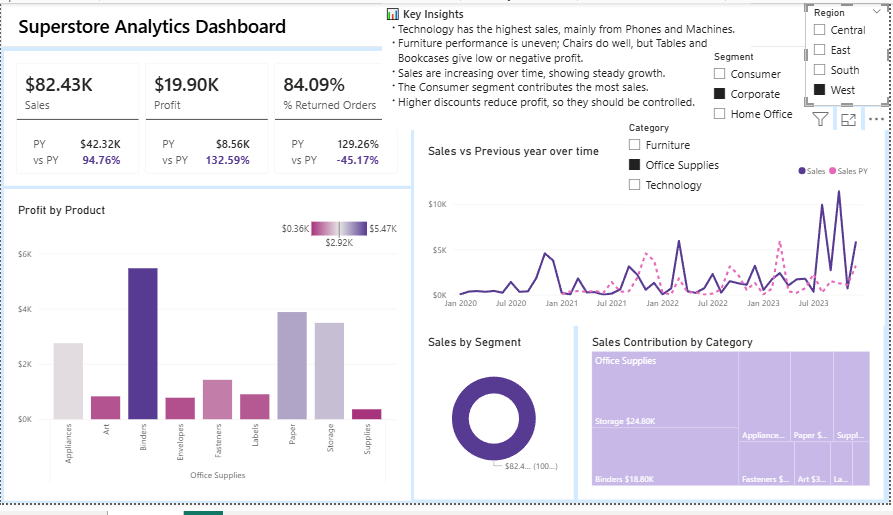

What the dashboard file says about the page in this screenshot:
{"tool":"powerbi","page":{"name":"Page 1","canvas":[1280,720],"ordinal":0},"visuals":[{"type":"cardVisual","fields":{"Data":["Key Measures.Sales","Key Measures.Profit","Key Measures.% Returned Orders"]},"box":[4.3,68.6,585.7,194.3],"z":0},{"type":"shape","box":[0,0,1280.3,63.1],"z":1000},{"type":"lineChart","title":"Sales vs Previous year over time","fields":{"Y":["Key Measures.Sales","Key Measures.Sales PY"],"Category":["Date Table.Start of month"]},"box":[594.7,182.9,678.2,282.2],"z":2000},{"type":"columnChart","title":"Profit by Product","fields":{"Category":["Orders.Category","Orders.Sub-Category"],"Y":["Key Measures.Profit"]},"box":[4.3,267.1,585.7,448.6],"z":3000},{"type":"donutChart","title":"Sales by Segment","fields":{"Category":["Orders.Segment"],"Y":["Key Measures.Sales"]},"box":[595.4,458.5,230,256.9],"z":4000},{"type":"treemap","title":"Sales Contribution by Category","fields":{"Group":["Orders.Category"],"Details":["Orders.Sub-Category"],"Values":["Key Measures.Sales"]},"box":[831.4,458.6,440,257.1],"z":5000},{"type":"textbox","box":[548.6,0,531.4,182.9],"z":6000},{"type":"slicer","fields":{"Values":["Orders.Region"]},"box":[1157.8,0,122.4,148.3],"z":6001},{"type":"slicer","fields":{"Values":["Orders.Category"]},"box":[891.4,165.6,159.8,123.8],"z":6002},{"type":"slicer","fields":{"Values":["Orders.Segment"]},"box":[1013.8,63.4,154.1,122.4],"z":6003}]}

Visuals, with their boxes on the page's 1280x720 design canvas (x1, y1, x2, y2). These are canvas units, not pixel positions in the 893x515 screenshot, which may show the page scaled, cropped or inside an application window:
cardVisual - Key Measures.Sales x Key Measures.Profit: [4, 69, 590, 263]
shape: [0, 0, 1280, 63]
"Sales vs Previous year over time" lineChart: [595, 183, 1273, 465]
"Profit by Product" columnChart: [4, 267, 590, 716]
"Sales by Segment" donutChart: [595, 458, 825, 715]
"Sales Contribution by Category" treemap: [831, 459, 1271, 716]
textbox: [549, 0, 1080, 183]
slicer - Orders.Region: [1158, 0, 1280, 148]
slicer - Orders.Category: [891, 166, 1051, 289]
slicer - Orders.Segment: [1014, 63, 1168, 186]
